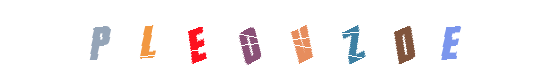D: (364, 0, 444, 80)
E: (200, 0, 280, 80), (409, 0, 489, 80)
L: (156, 0, 236, 80)
O: (215, 0, 295, 80)
P: (121, 0, 201, 80)
V: (228, 0, 308, 80)
Z: (313, 0, 393, 80)
